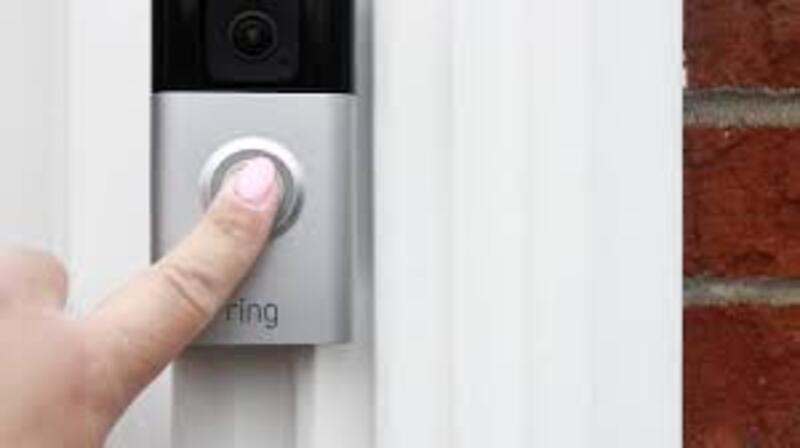doorbell: (133, 0, 373, 345)
